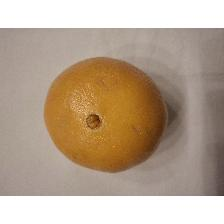Orange: (42, 55, 170, 174)
